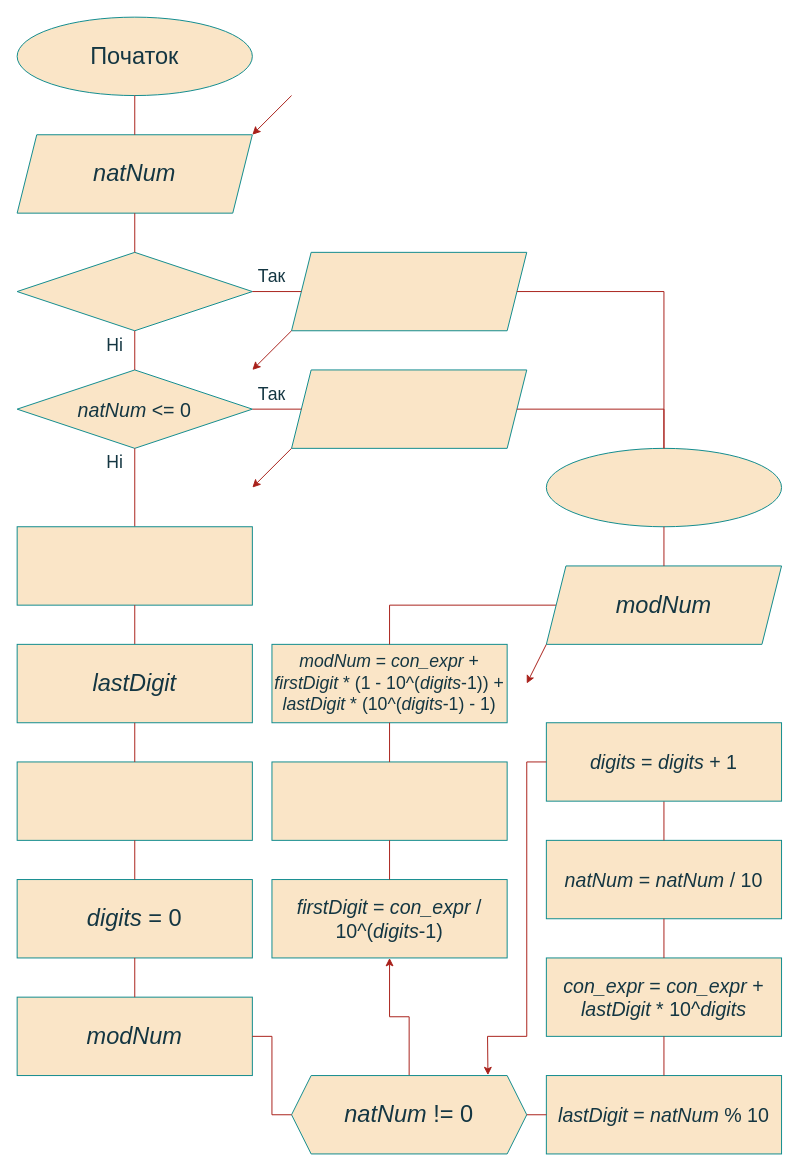
This 799x1171 diagram has some shape labels left out. Here are the shapes that lost their labels. From the top down, the centre of each, then its label:
the point at 134,291: 0 < natNum < 10
the point at 409,291: natNum + додаткове повідомлення
the point at 409,408: Повідомлення про помилку
the point at 663,487: Кінець
the point at 134,565: firstDigit
the point at 134,800: con_expr = 0
the point at 389,800: lastDigit = con_expr % 10
